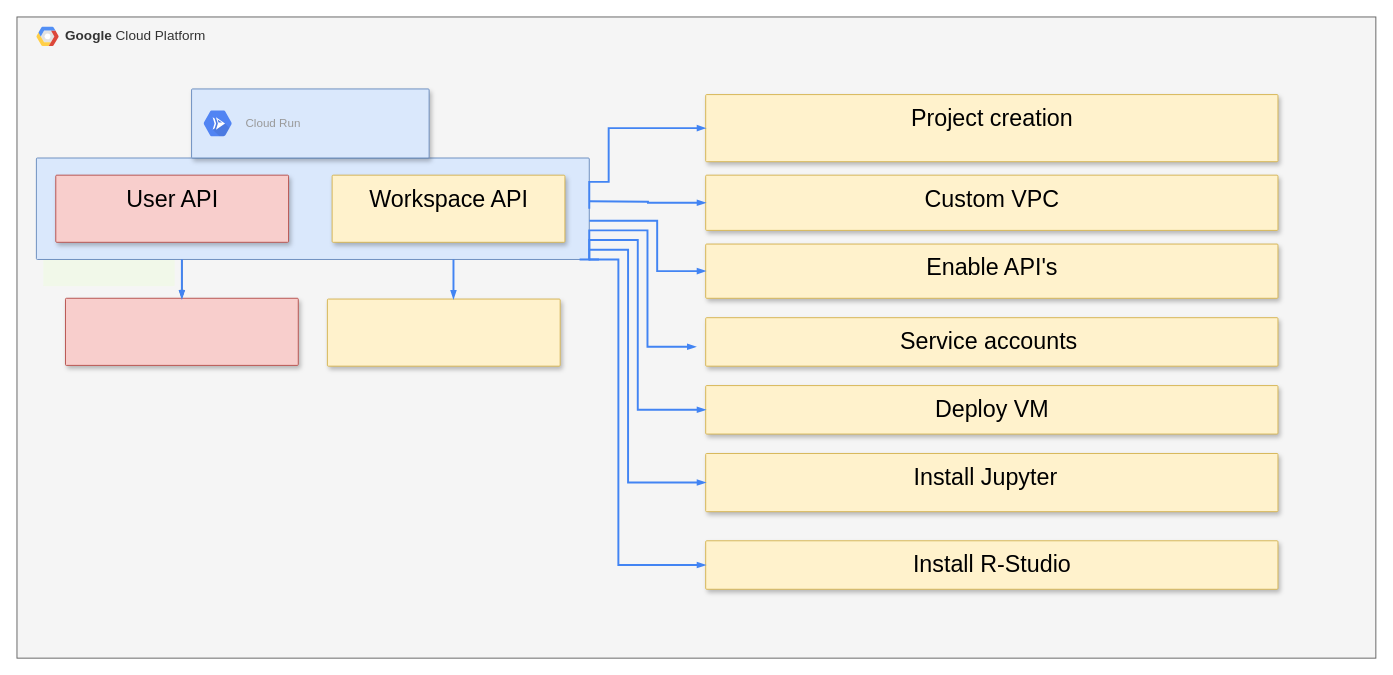
Image size: 1393x675. Some labels were removed from this diagram. The shapes that lost their labels are listed below. From the top down, each one's centre as x and y in pixels, then its label:
[182,332]: add Users
[444,333]: Status update to DataStore
